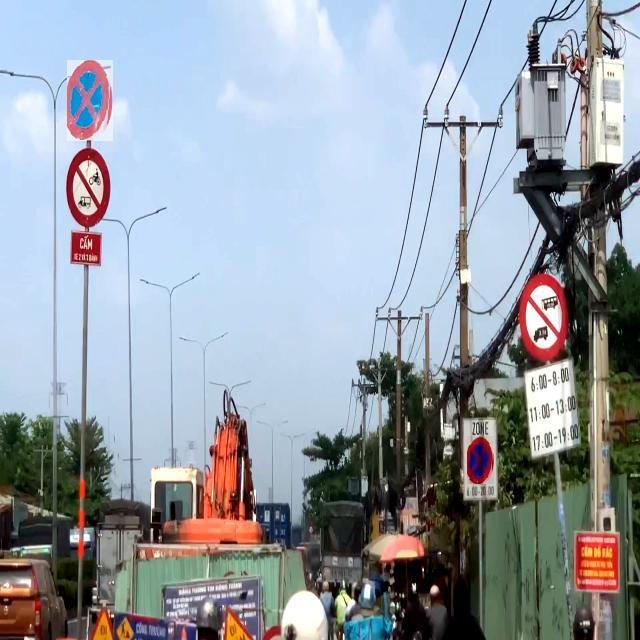P-130: (67, 60, 113, 141), (467, 437, 494, 485)
